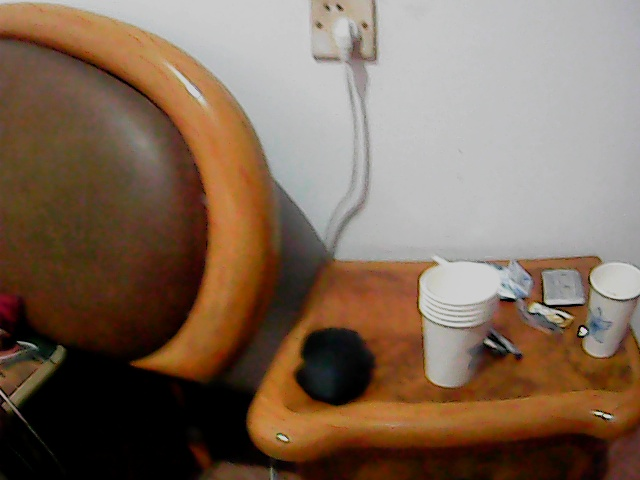cup: (420, 257, 500, 397)
mouse: (294, 324, 377, 408)
